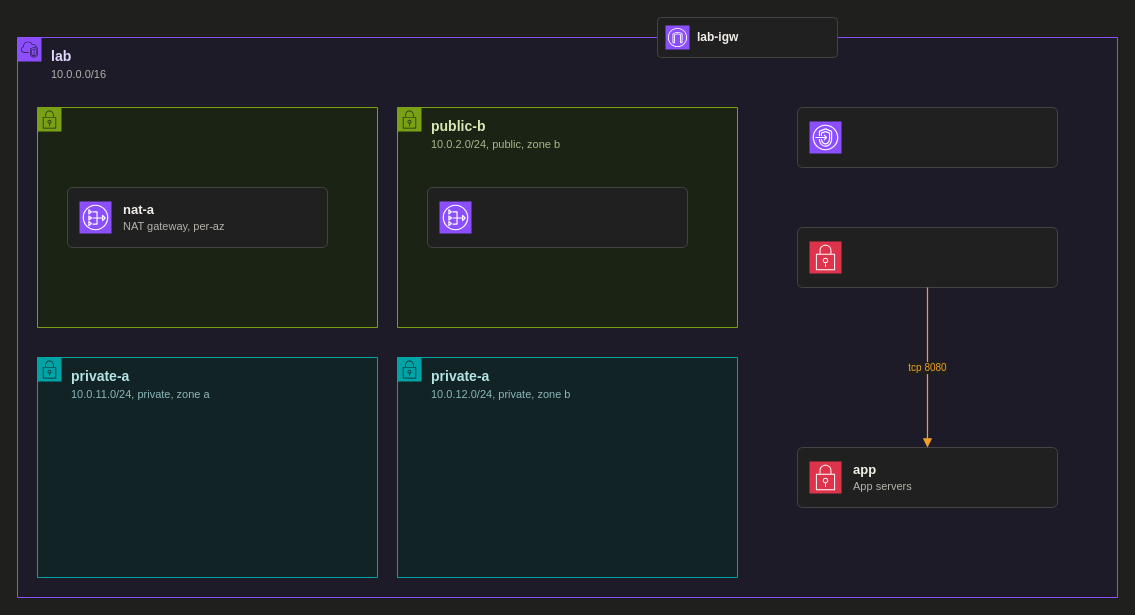
Some shapes in this 1135 by 615 pixel diagram are drawn without their labels. The shapes that lost their labels are listed below. From the top down, each one's box as (x1, y1, x2, y2) in pixels, then its label:
(796, 106, 1058, 168): s3 gateway endpoint for s3
(36, 106, 378, 328): public-a 10.0.1.0/24, public, zone a
(426, 186, 688, 248): nat-b NAT gateway, per-az
(796, 226, 1058, 288): web Load balancer
